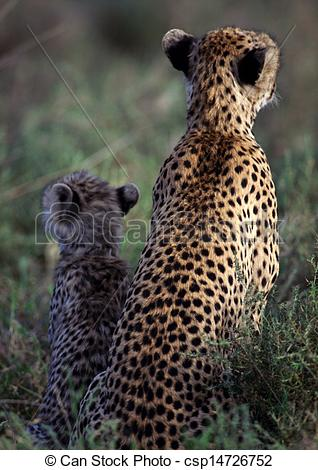Cheetah: (64, 22, 286, 470), (32, 168, 138, 452)
